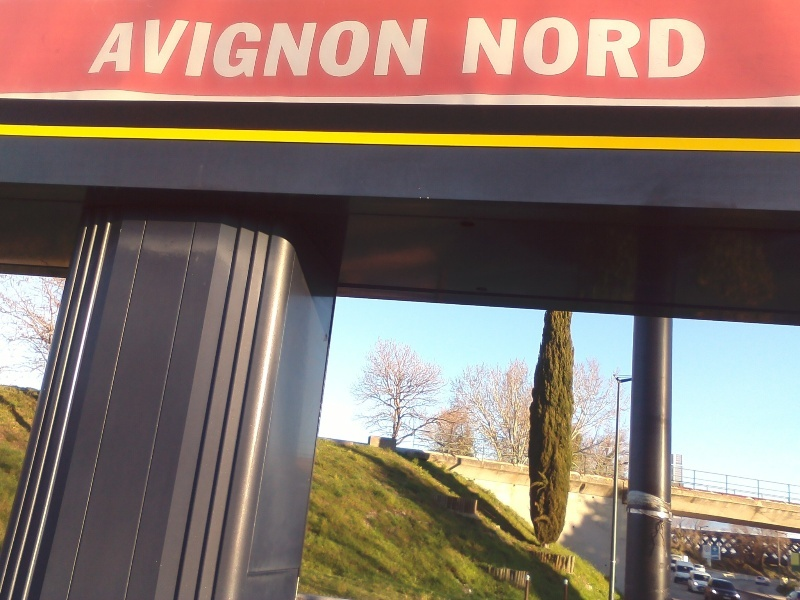text: (481, 17, 496, 80), (497, 17, 512, 80), (513, 17, 528, 80), (529, 17, 544, 80), (545, 17, 560, 80), (561, 17, 576, 80), (577, 17, 592, 80), (593, 17, 608, 80), (609, 17, 624, 80), (625, 17, 640, 80), (641, 17, 656, 80), (657, 17, 672, 80), (673, 17, 688, 80), (689, 17, 704, 80), (113, 18, 128, 78), (129, 18, 144, 78), (145, 18, 160, 78), (161, 18, 176, 78), (177, 18, 192, 78), (193, 18, 208, 78), (209, 18, 224, 78), (225, 18, 240, 78), (241, 18, 256, 78), (257, 18, 272, 78), (273, 18, 288, 78), (289, 18, 304, 78), (305, 18, 320, 78), (321, 18, 336, 78), (337, 18, 352, 78), (353, 18, 368, 78), (369, 18, 384, 78), (385, 18, 400, 78), (401, 18, 416, 78), (417, 18, 431, 78), (468, 17, 480, 80), (106, 18, 112, 78), (705, 17, 709, 80)
